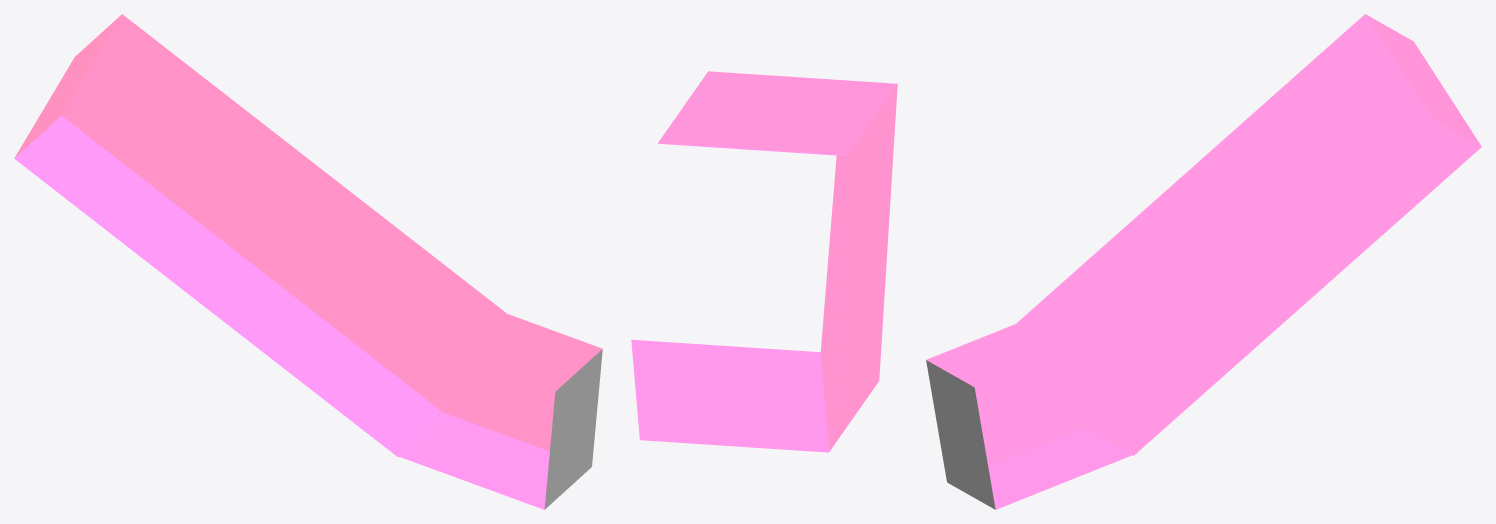
File: topcastlepath.gltf
The picture shows the model from 3 angles, left to right: view 1: azimuth 30°, elevation 25°; view 2: azimuth 150°, elevation 25°; view 3: azimuth 270°, elevation 25°; orthographic projection. The views are drawn at different scales.
Parts seen in each view (by area): view 1: CSGBakedMeshInstance3D; view 2: CSGBakedMeshInstance3D; view 3: CSGBakedMeshInstance3D.
Boxes of the visible parts, x1,y1,x2,y2 form: CSGBakedMeshInstance3D: [14, 14, 602, 509]; CSGBakedMeshInstance3D: [631, 71, 897, 452]; CSGBakedMeshInstance3D: [926, 14, 1481, 509].
Bounding box in the file's own units: 18.46 × 18.24 × 25.92.
